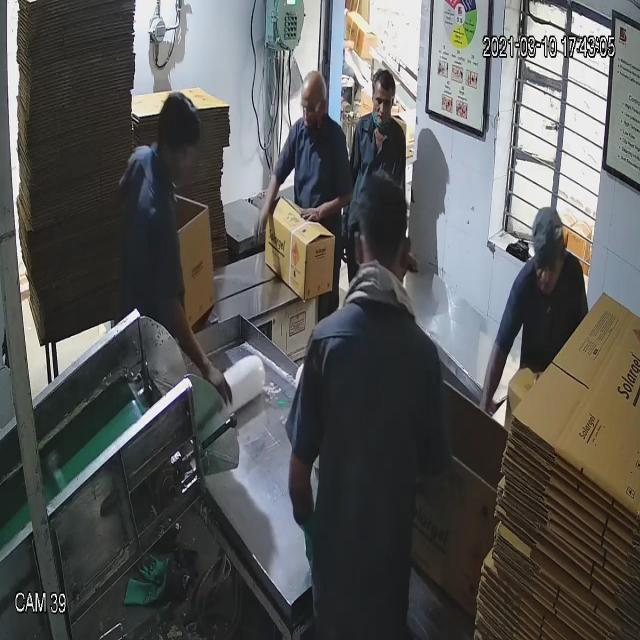No_Gloves: (40, 52, 488, 366)
